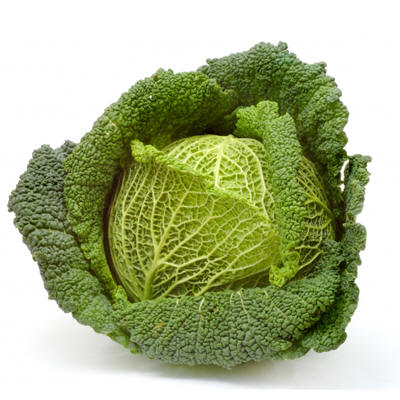cabbage: (9, 41, 372, 371)
